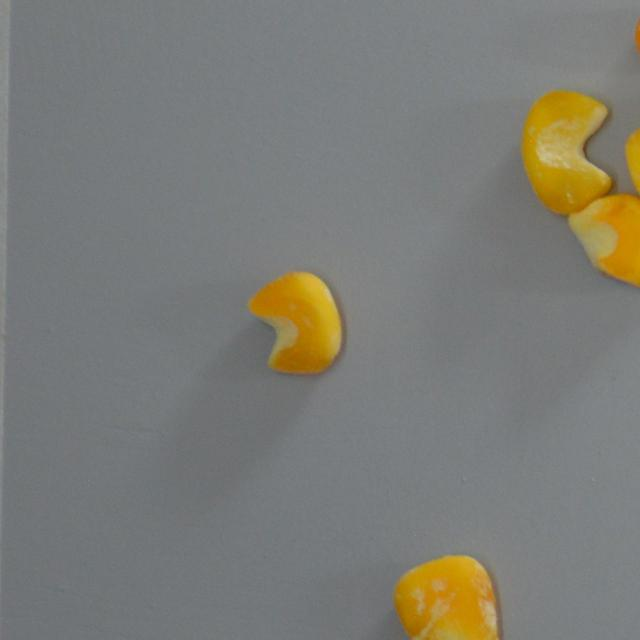no_canjicado: (520, 89, 612, 215), (246, 272, 349, 374), (570, 194, 640, 290), (624, 118, 640, 222)
pelicula: (390, 554, 502, 640)
